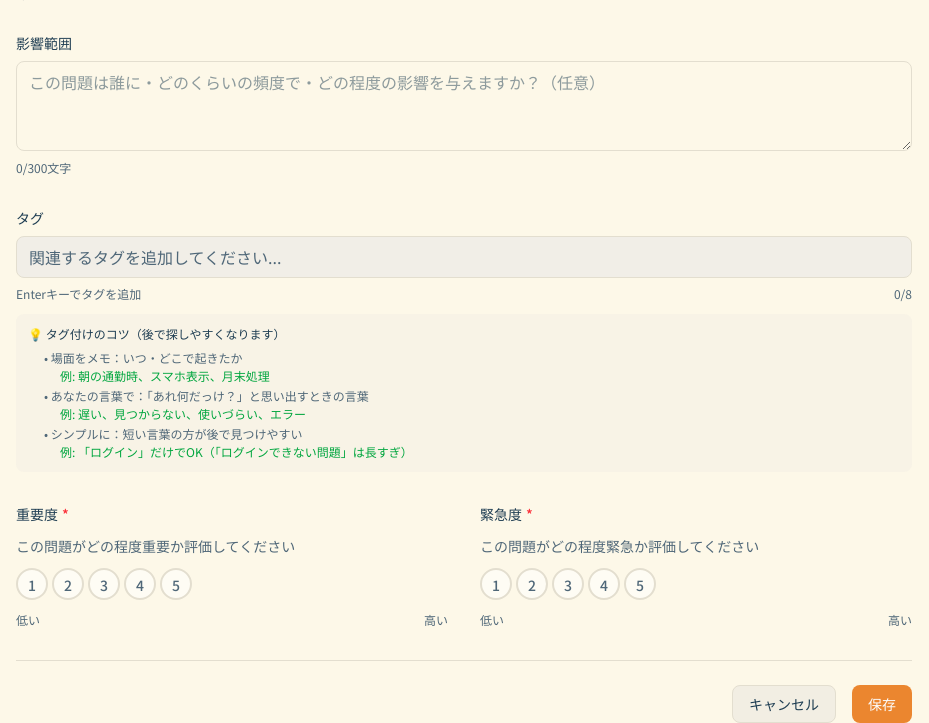
it: DetailedPainPointForm › 必須フィールドが空の場合バリデーションエラーが表示される
(page scrolled)
Click the button "保存" at (882, 704), box [852,685,912,722]
(page scrolled)
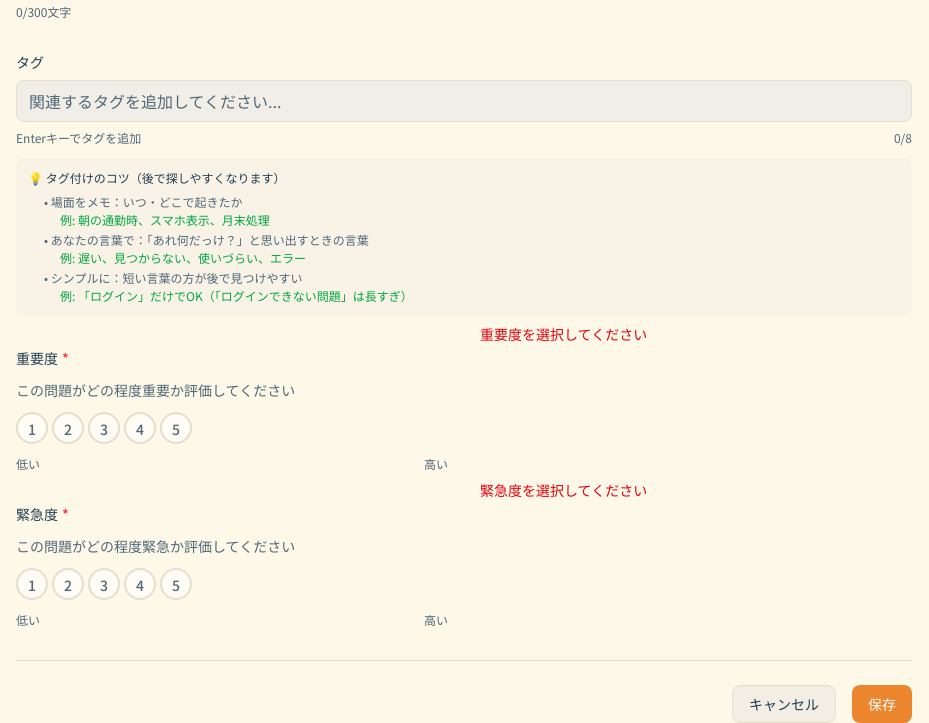
Expected: the text "重要度を選択してください" is shown, [480,324,647,344]
Expected: the text "緊急度を選択してください" is shown, [480,480,647,500]
